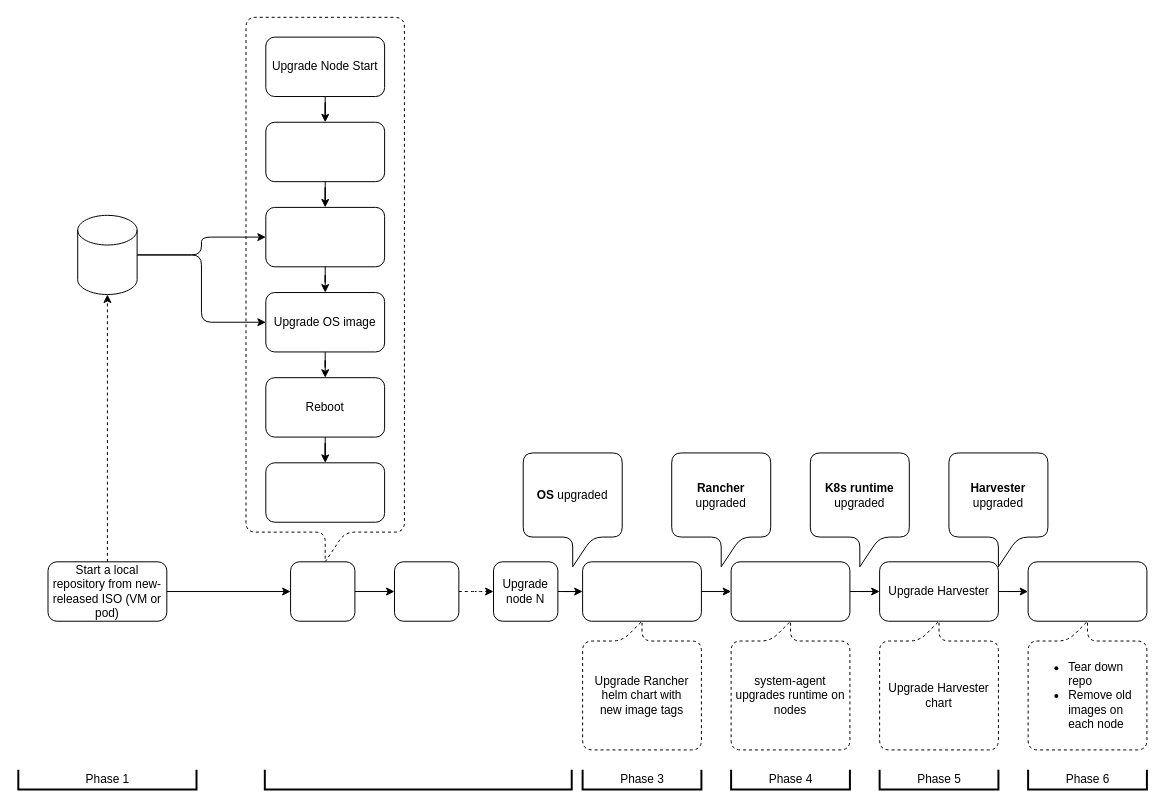
Some shapes in this 1164 by 808 pixel diagram are drawn without their labels. Each missing label, with the centre of its shape:
Cleanup: [1087,591]
Migrate VMs back?: [325,492]
Migrate VMs out: [325,151]
Phase 2: [417,779]
Preload new images: [325,236]
Repository: [107,254]
Upgrade k8s runtime: [790,591]
Upgrade node1: [322,591]
Upgrade node2: [426,591]
Upgrade Rancher: [641,591]
